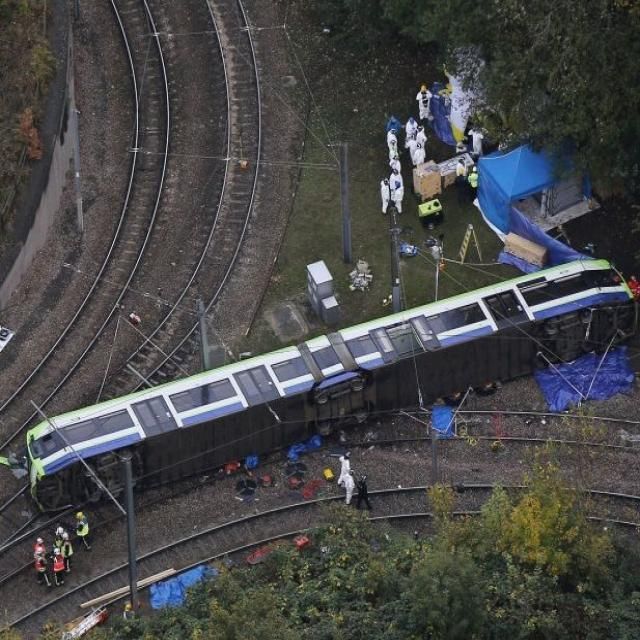traffic_incident: (0, 235, 628, 513)
